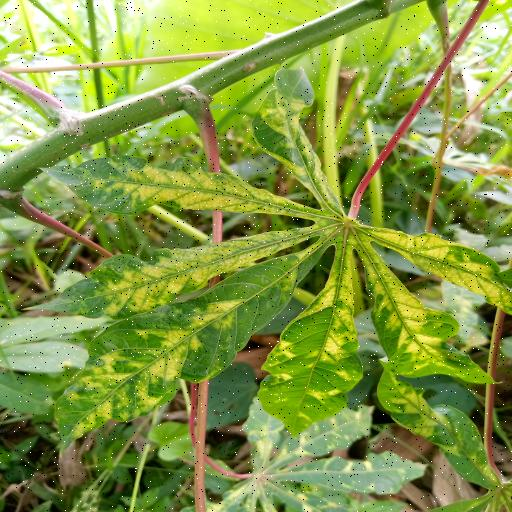Cassava_Mosaic: (49, 63, 506, 472)
